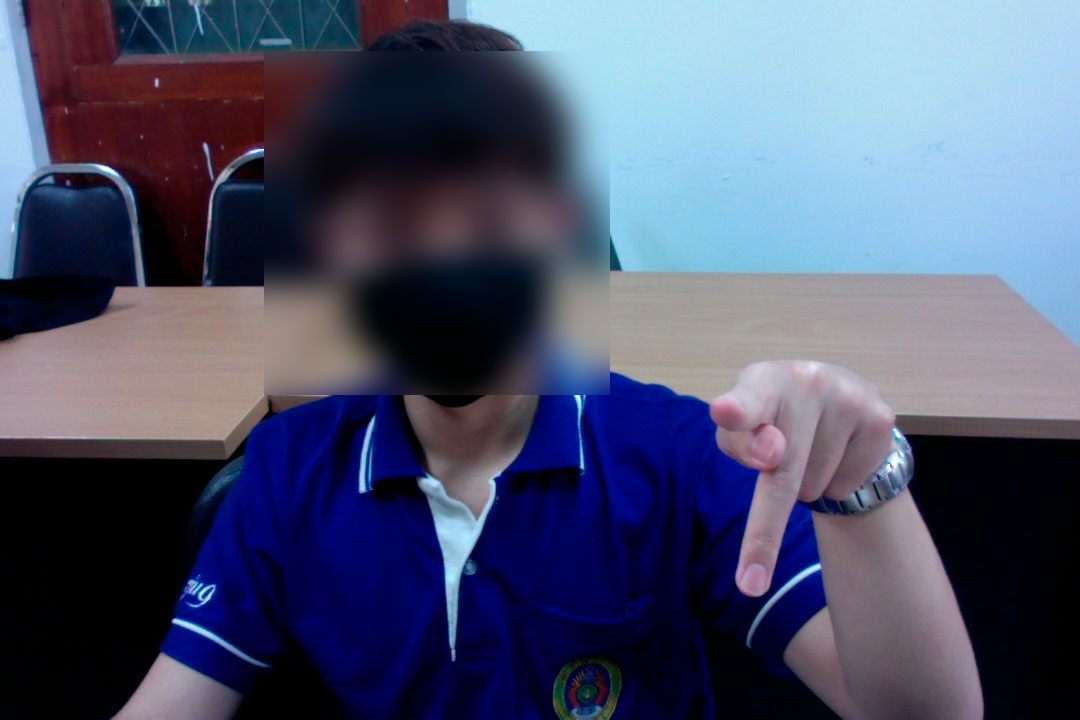por: (702, 340, 896, 601)
